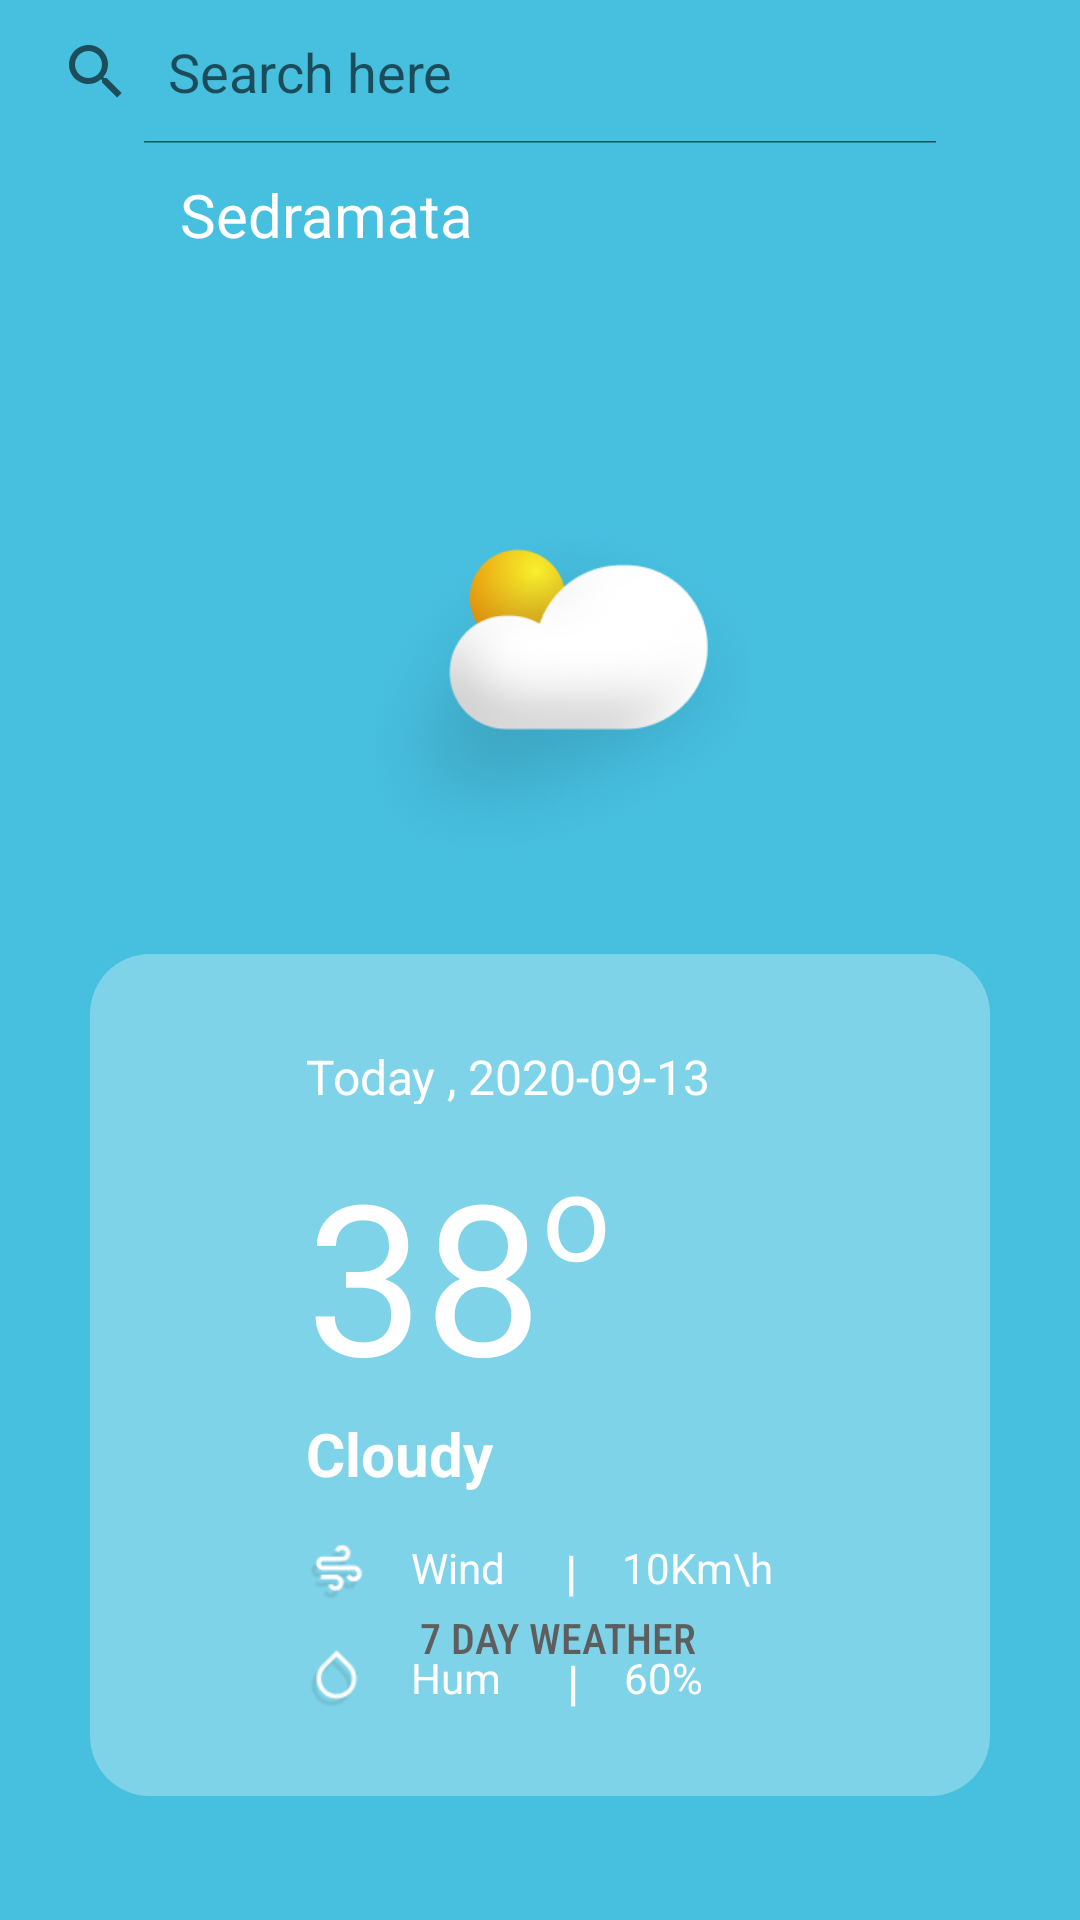

Screen size 1080w x 1920h. Icon name, then its box in pixels as (left=x1, top=y1, right=x2, bottom=y2):
cloud: (left=449, top=549, right=708, bottom=743)
drop: (left=316, top=1650, right=357, bottom=1699)
